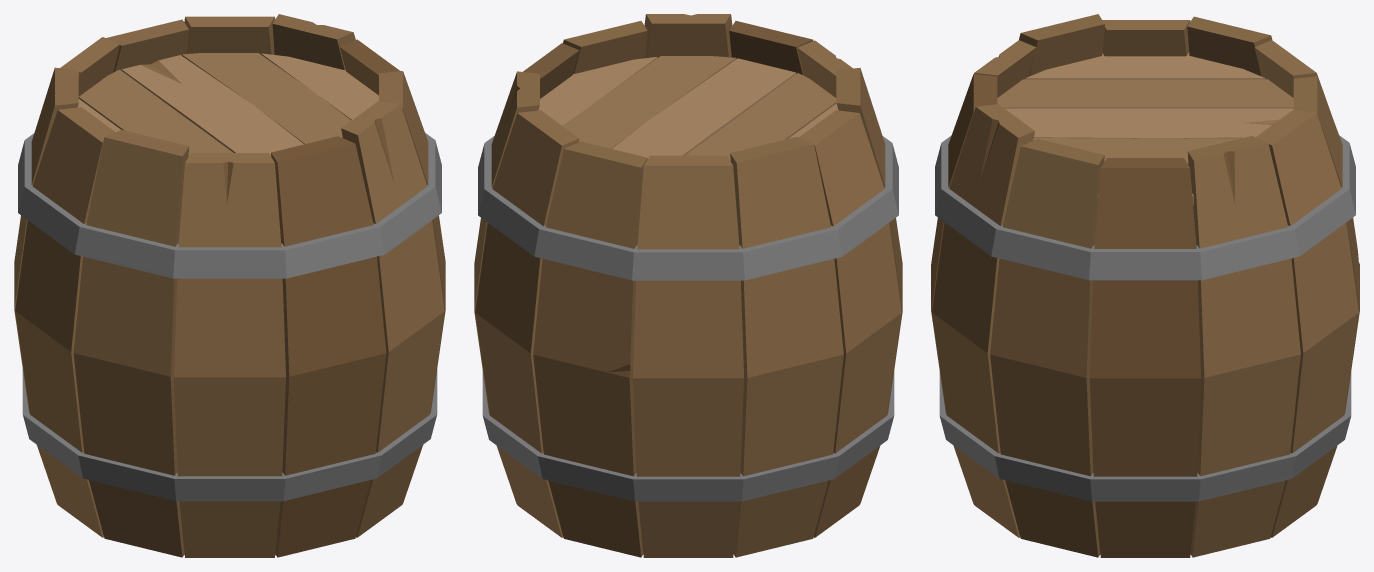
The model's file is Mesh_Props_Barrel_03.obj.
3 views of the same model, side by side, from view 1: azimuth 30°, elevation 25°; view 2: azimuth 150°, elevation 25°; view 3: azimuth 270°, elevation 25° (orthographic).
Visible parts, largest first — view 1: Mesh_Props_Barrel_03_M_LowPolyFarm_MAIN; view 2: Mesh_Props_Barrel_03_M_LowPolyFarm_MAIN; view 3: Mesh_Props_Barrel_03_M_LowPolyFarm_MAIN.
Part boxes in pixels (x1,y1,x2,y2): Mesh_Props_Barrel_03_M_LowPolyFarm_MAIN: (14,14,445,557); Mesh_Props_Barrel_03_M_LowPolyFarm_MAIN: (474,14,902,557); Mesh_Props_Barrel_03_M_LowPolyFarm_MAIN: (931,14,1359,557).
Size of the model in its own units: 0.7488 by 0.7693 by 0.7488.
Materials: 1 (1 with a texture image).
